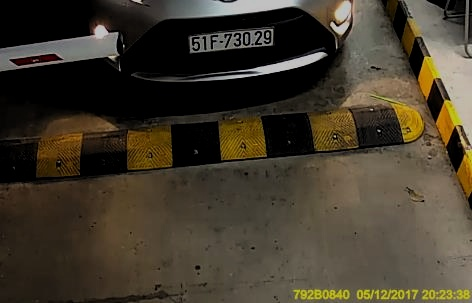plate: (183, 27, 279, 52)
